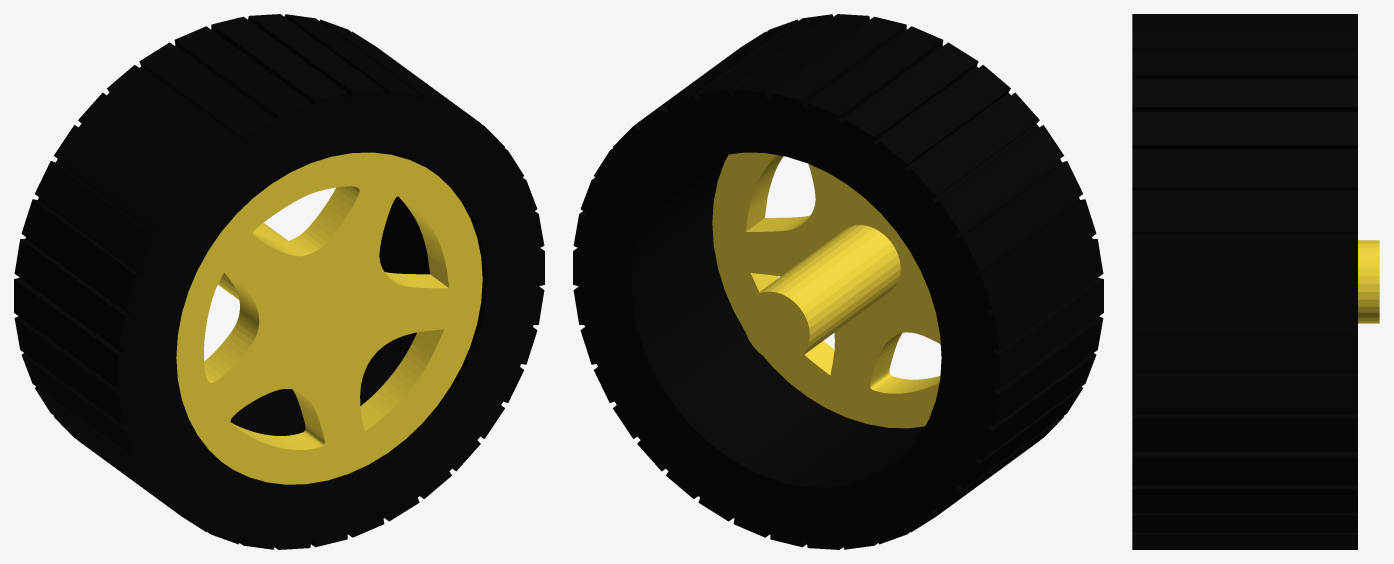
The model's file is wheel.dae.
3 renders of one model, left to right at view 1: azimuth 30°, elevation 25°; view 2: azimuth 150°, elevation 25°; view 3: azimuth 270°, elevation 25°, orthographic. The views are drawn at different scales.
Parts seen in each view (by area): view 1: Curve_002, Curve; view 2: Curve_002, Curve, Cylinder; view 3: Curve_002, Cylinder.
Boxes of the visible parts, x1,y1,x2,y2 form: Curve_002: (14,14,544,549); Curve: (176,152,482,484); Curve_002: (573,14,1103,549); Curve: (712,152,940,428); Cylinder: (743,225,900,362); Curve_002: (1132,14,1357,549); Cylinder: (1358,240,1379,323).
Bounding box in the file's own units: 0.064 × 0.0296 × 0.064.
